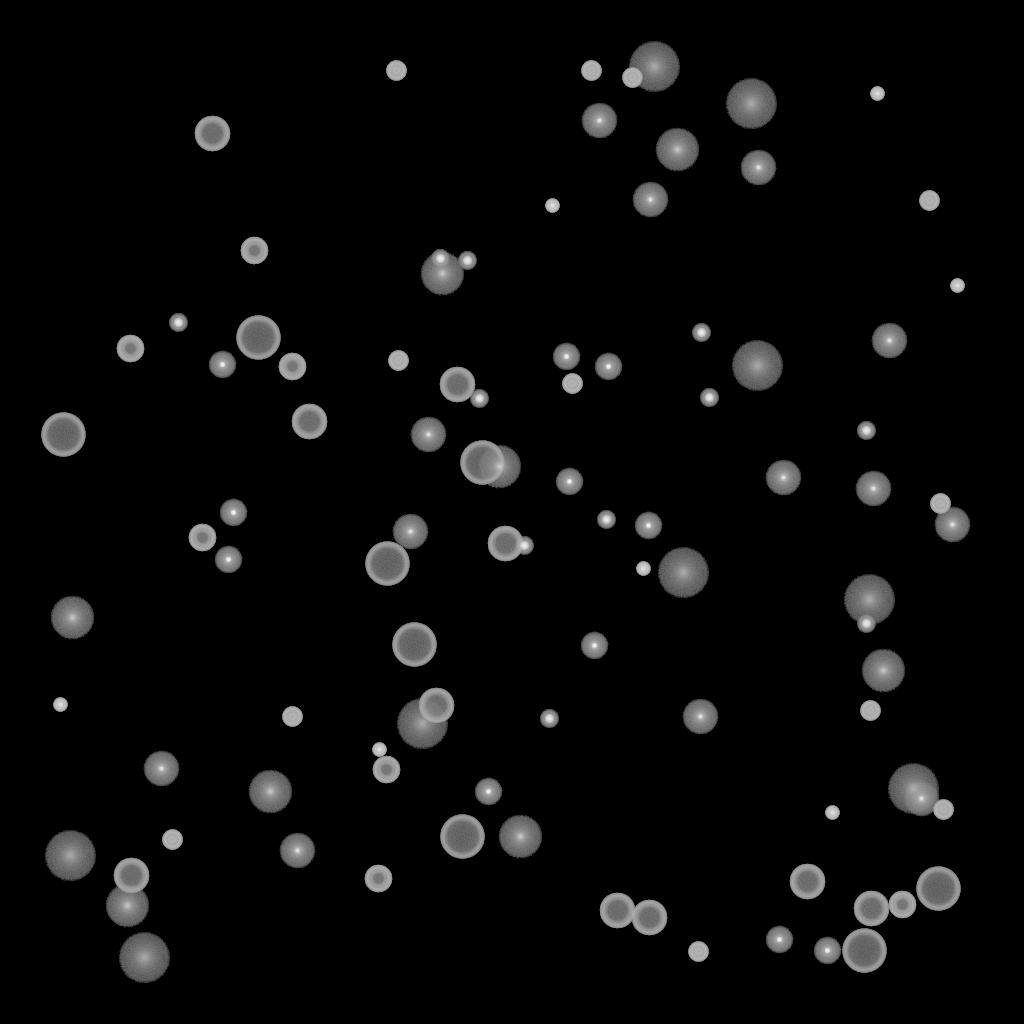depth:-10: (580, 632, 608, 660), (474, 778, 502, 806), (214, 546, 242, 574), (555, 468, 583, 496), (813, 937, 841, 965), (765, 926, 793, 954), (634, 512, 662, 540), (552, 343, 580, 371), (208, 351, 236, 379), (219, 499, 247, 527), (594, 353, 622, 381)
depth:-20: (857, 422, 875, 440), (458, 252, 476, 270), (470, 390, 488, 408), (540, 710, 558, 728), (692, 324, 710, 342), (700, 389, 718, 407), (597, 511, 615, 529), (515, 537, 533, 555), (169, 314, 187, 332), (857, 615, 875, 633), (431, 250, 449, 268)
depth:-30: (636, 562, 650, 576), (372, 743, 386, 757), (53, 698, 67, 712), (950, 279, 964, 293), (825, 806, 839, 820), (545, 199, 559, 213), (870, 87, 884, 101)
depth:-40: (688, 942, 708, 962), (622, 68, 642, 88), (581, 61, 601, 81), (860, 701, 880, 721), (930, 494, 950, 514), (282, 707, 302, 727), (388, 351, 408, 371), (933, 800, 953, 820), (162, 830, 182, 850), (386, 61, 406, 81), (562, 374, 582, 394), (919, 191, 939, 211)
depth:-50: (888, 891, 916, 919), (364, 865, 392, 893), (372, 756, 400, 784), (188, 524, 216, 552), (278, 353, 306, 381), (116, 335, 144, 363), (240, 237, 268, 265)
depth:-60: (113, 858, 149, 894), (291, 404, 327, 440), (487, 526, 523, 562), (853, 891, 889, 927), (631, 900, 667, 936), (194, 116, 230, 152), (418, 688, 454, 724), (789, 864, 825, 900), (599, 893, 635, 929), (439, 367, 475, 403)
depth:-70: (440, 815, 484, 859), (392, 623, 436, 667), (236, 316, 280, 360), (842, 929, 886, 973), (41, 413, 85, 457), (365, 542, 409, 586), (460, 441, 504, 485), (916, 867, 960, 911)
depth:0: (392, 514, 428, 550), (903, 781, 939, 817), (581, 103, 617, 139), (855, 471, 891, 507), (871, 323, 907, 359), (740, 150, 776, 186), (279, 833, 315, 869), (632, 182, 668, 218), (143, 751, 179, 787), (682, 699, 718, 735), (410, 417, 446, 453), (765, 460, 801, 496), (934, 507, 970, 543)
depth:10: (248, 770, 292, 814), (498, 815, 542, 859), (105, 884, 149, 928), (861, 649, 905, 693), (420, 252, 464, 296), (50, 596, 94, 640), (477, 445, 521, 489), (655, 128, 699, 172)
depth:20: (843, 575, 895, 625), (628, 42, 680, 92), (657, 548, 709, 598), (725, 79, 777, 129), (731, 341, 783, 391), (44, 831, 96, 881), (118, 933, 170, 983), (887, 764, 939, 814), (396, 699, 448, 749)
